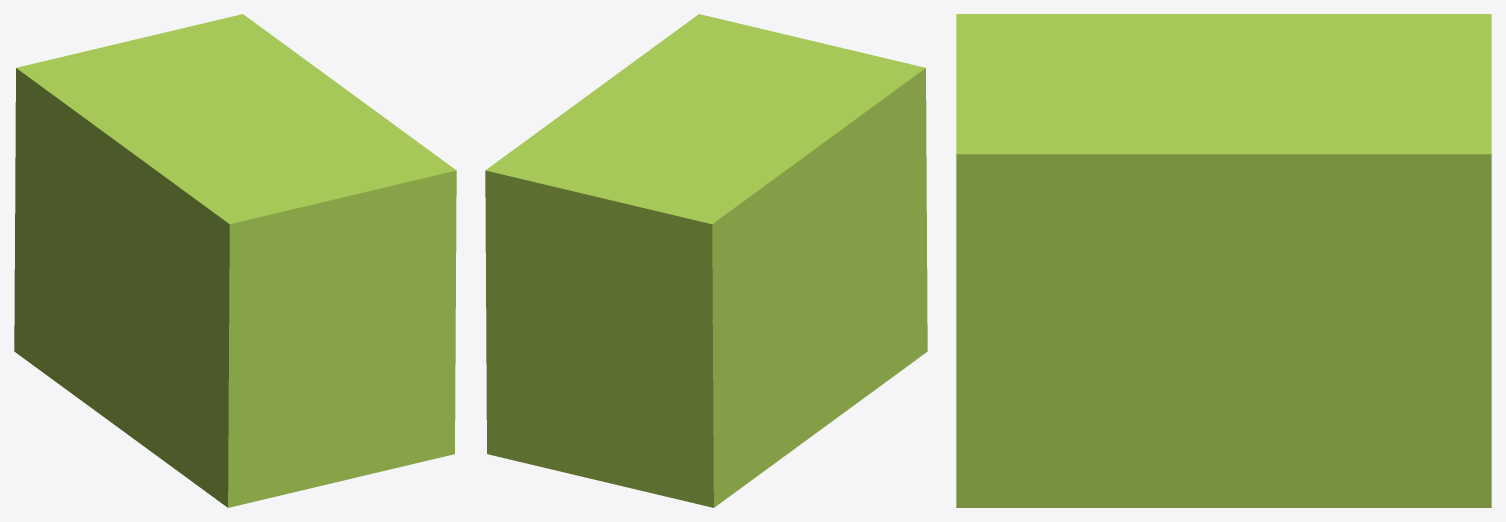
The model's file is niryo_one_Link_3_coll_3.dae.
The picture shows the model from 3 angles, left to right: view 1: azimuth 30°, elevation 25°; view 2: azimuth 150°, elevation 25°; view 3: azimuth 270°, elevation 25°; orthographic projection. The views are drawn at different scales.
Parts seen in each view (by area): view 1: Node_00000276BF537550; view 2: Node_00000276BF537550; view 3: Node_00000276BF537550.
Boxes of the visible parts, x1=… form: Node_00000276BF537550: x1=14, y1=14, x2=456, y2=507; Node_00000276BF537550: x1=485, y1=14, x2=927, y2=507; Node_00000276BF537550: x1=956, y1=14, x2=1491, y2=507.
Size of the model in its own units: 0.0287 by 0.0342 by 0.0465.
